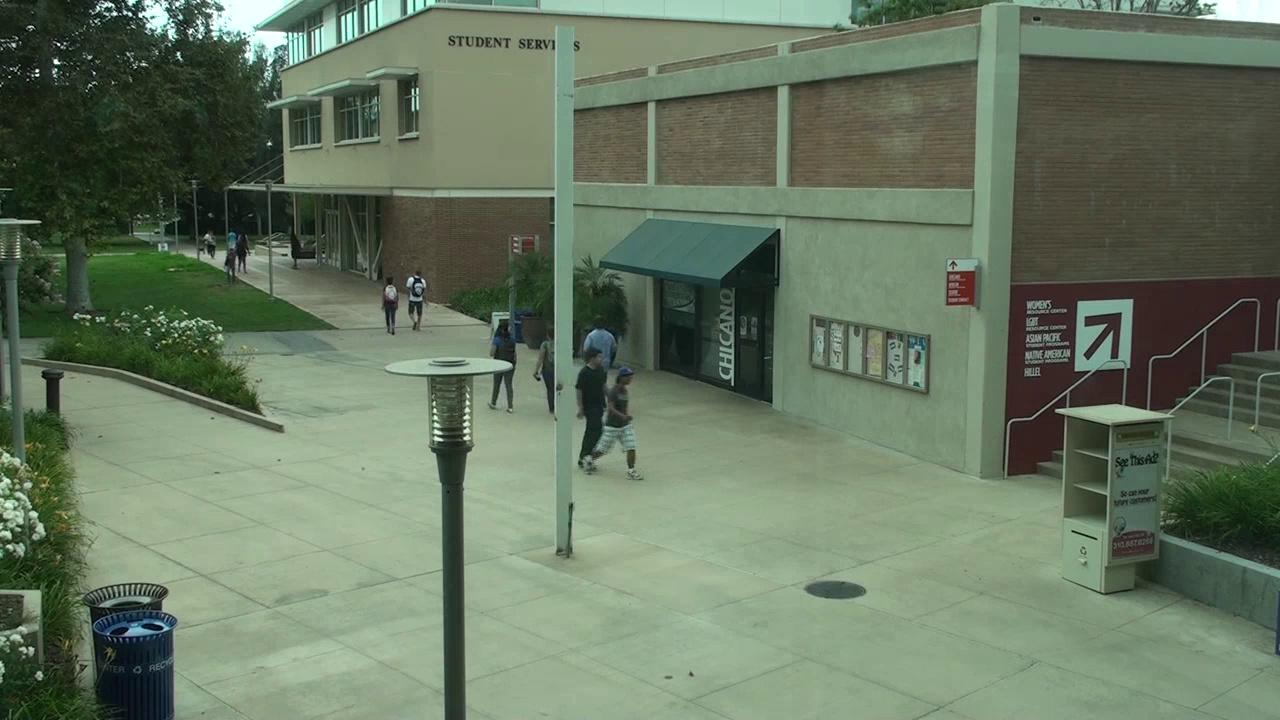person: (584, 368, 642, 479), (577, 351, 606, 467), (489, 321, 517, 412), (534, 329, 562, 414), (583, 316, 616, 369), (406, 270, 426, 330), (383, 276, 398, 334), (236, 234, 247, 272), (290, 232, 300, 268), (225, 248, 235, 282), (205, 230, 214, 259)
